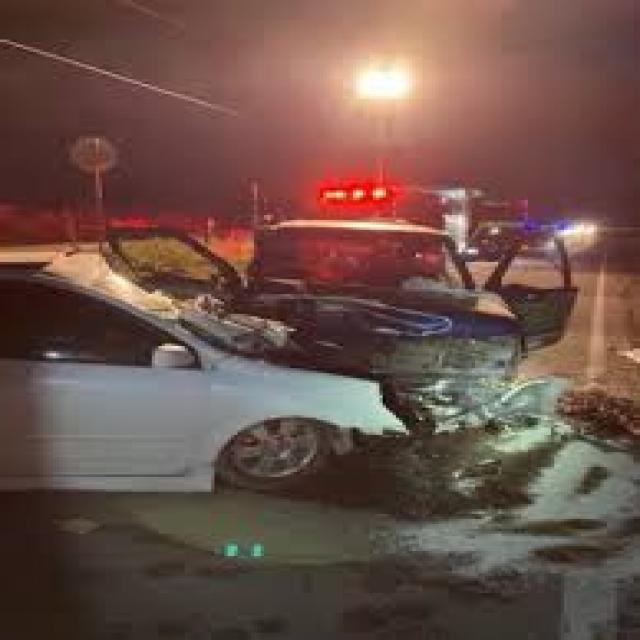accident: (98, 204, 624, 516)
